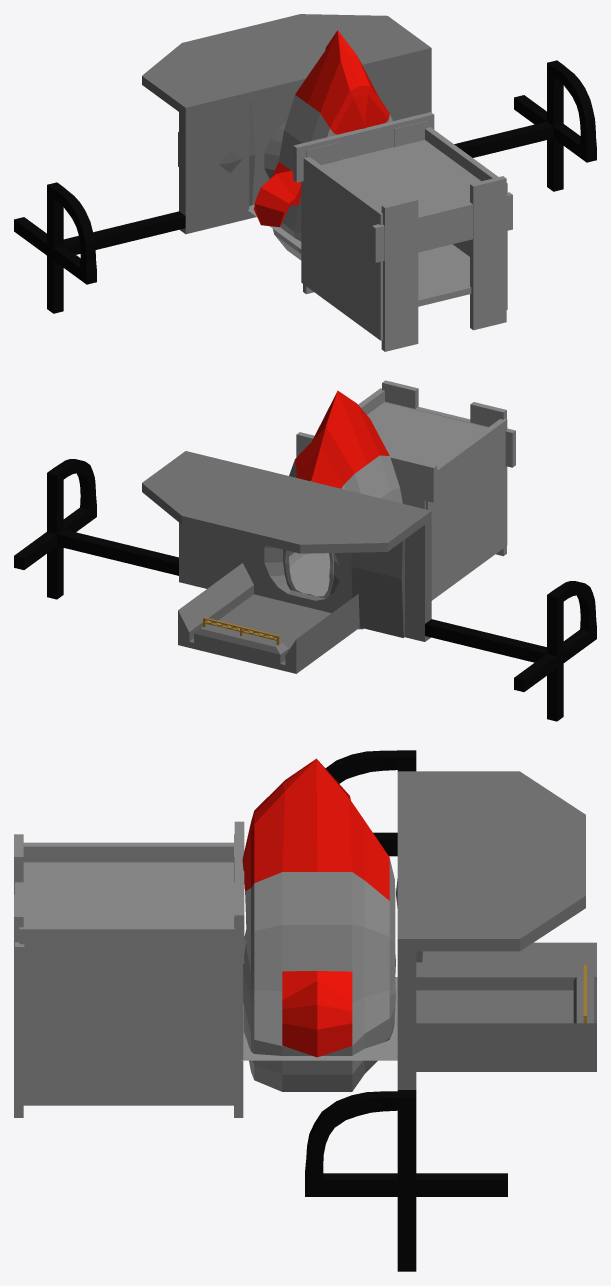
Rendered from Escape_Room_Space.fbx.
3 views of the same model, one above another, from view 1: azimuth 30°, elevation 25°; view 2: azimuth 150°, elevation 25°; view 3: azimuth 270°, elevation 25° (orthographic). The views are drawn at different scales.
Parts seen in each view (by area): view 1: Cube, Cube.003, Cube.013, Cube.006, Cube.004, Cube.005, Cube.002, Cube.001, Cube.010, Cube.007, Cube.011, Cube.009 (+1 smaller); view 2: Cube, Cube.003, Cube.013, Cube.006, Cube.011, Cube.010, Cube.004, Cube.005, Cube.002; view 3: Cube, Cube.013, Cube.007, Cube.006, Cube.003, Cube.010, Cube.004, Cube.002.
Boxes of the visible parts, left/top/right/bottom form: Cube: left=14, top=14, right=596, bottom=313; Cube.003: left=301, top=157, right=382, bottom=340; Cube.013: left=248, top=30, right=392, bottom=260; Cube.006: left=321, top=140, right=480, bottom=214; Cube.004: left=470, top=176, right=506, bottom=330; Cube.005: left=381, top=197, right=418, bottom=351; Cube.002: left=372, top=192, right=512, bottom=262; Cube.001: left=418, top=244, right=471, bottom=306; Cube.010: left=293, top=112, right=434, bottom=182; Cube.007: left=425, top=127, right=507, bottom=309; Cube.011: left=219, top=101, right=255, bottom=212; Cube.009: left=394, top=120, right=427, bottom=147; Cube: left=14, top=451, right=596, bottom=721; Cube.003: left=425, top=418, right=507, bottom=600; Cube.013: left=283, top=390, right=402, bottom=629; Cube.006: left=367, top=402, right=487, bottom=465; Cube.011: left=351, top=539, right=404, bottom=637; Cube.010: left=296, top=432, right=437, bottom=502; Cube.004: left=382, top=380, right=418, bottom=408; Cube.005: left=470, top=402, right=506, bottom=556; Cube.002: left=385, top=401, right=515, bottom=467; Cube: left=305, top=750, right=596, bottom=1271; Cube.013: left=241, top=758, right=397, bottom=1091; Cube.007: left=19, top=925, right=240, bottom=1105; Cube.006: left=24, top=862, right=234, bottom=925; Cube.003: left=23, top=842, right=233, bottom=862; Cube.010: left=234, top=821, right=244, bottom=963; Cube.004: left=14, top=894, right=23, bottom=1117; Cube.002: left=15, top=862, right=24, bottom=995.
Size of the model in its own units: 17283 by 7862 by 12248.
